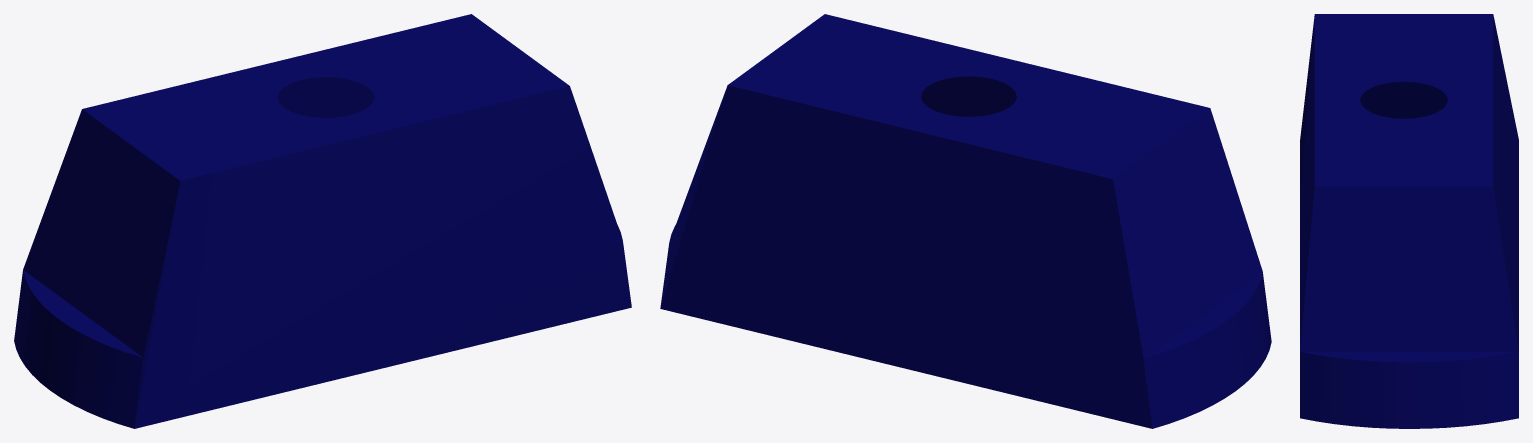
The model's file is original-25.obj.
3 renders of one model, left to right at view 1: azimuth 30°, elevation 25°; view 2: azimuth 150°, elevation 25°; view 3: azimuth 270°, elevation 25°, orthographic. The views are drawn at different scales.
Visible parts, largest first — view 1: #ID162; view 2: #ID162; view 3: #ID162.
Part boxes in pixels (<box>): #ID162: <box>14,14,631,428</box>; #ID162: <box>660,14,1271,428</box>; #ID162: <box>1300,14,1518,428</box>.
Size of the model in its own units: 0.3977 by 0.1595 by 0.1521.
